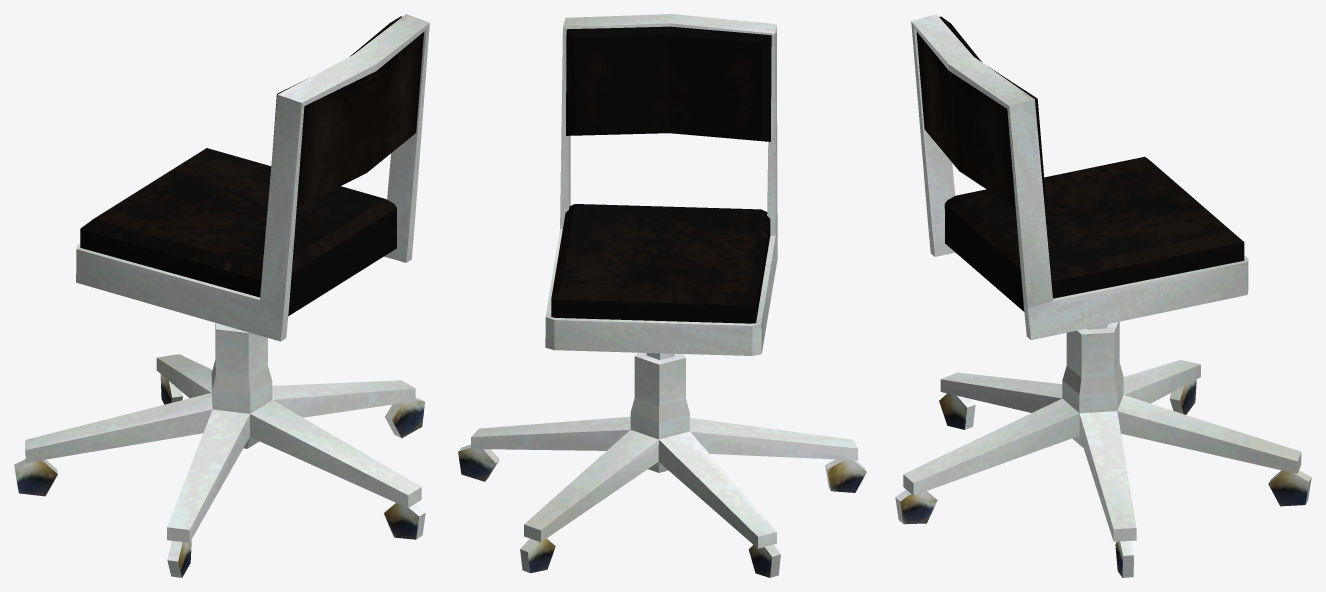
File: office_chair_black.fbx
The picture shows the model from 3 angles, left to right: view 1: azimuth 30°, elevation 25°; view 2: azimuth 150°, elevation 25°; view 3: azimuth 270°, elevation 25°; orthographic projection. The views are drawn at different scales.
Visible parts, largest first — view 1: office_chair_black; view 2: office_chair_black; view 3: office_chair_black.
Part boxes in pixels (x1,y1,x2,y2): office_chair_black: (14, 14, 429, 577); office_chair_black: (458, 14, 866, 577); office_chair_black: (895, 14, 1311, 577).
Bounding box in the file's own units: 92.45 × 110 × 90.44.
